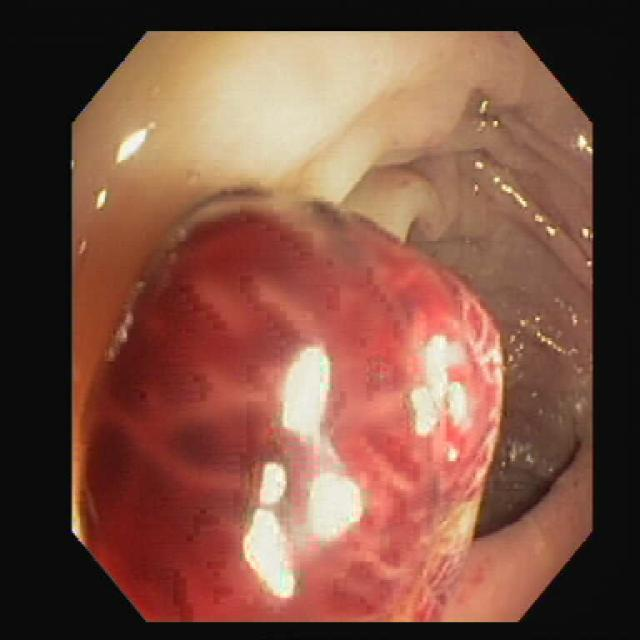tumor: (115, 196, 500, 620)
